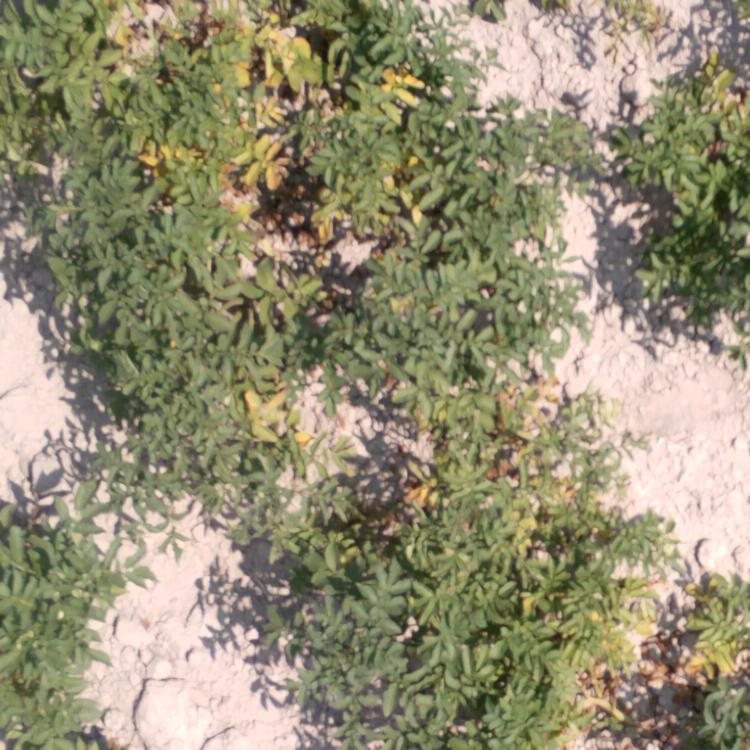healthy: (263, 573, 544, 750), (453, 73, 610, 350), (1, 189, 203, 356), (1, 508, 110, 749), (62, 361, 195, 502), (1, 1, 96, 186)
stressed: (105, 4, 439, 169), (404, 381, 656, 563), (213, 167, 447, 335), (622, 49, 750, 324), (557, 573, 662, 750), (233, 469, 403, 572), (673, 572, 750, 742), (207, 356, 314, 449)
